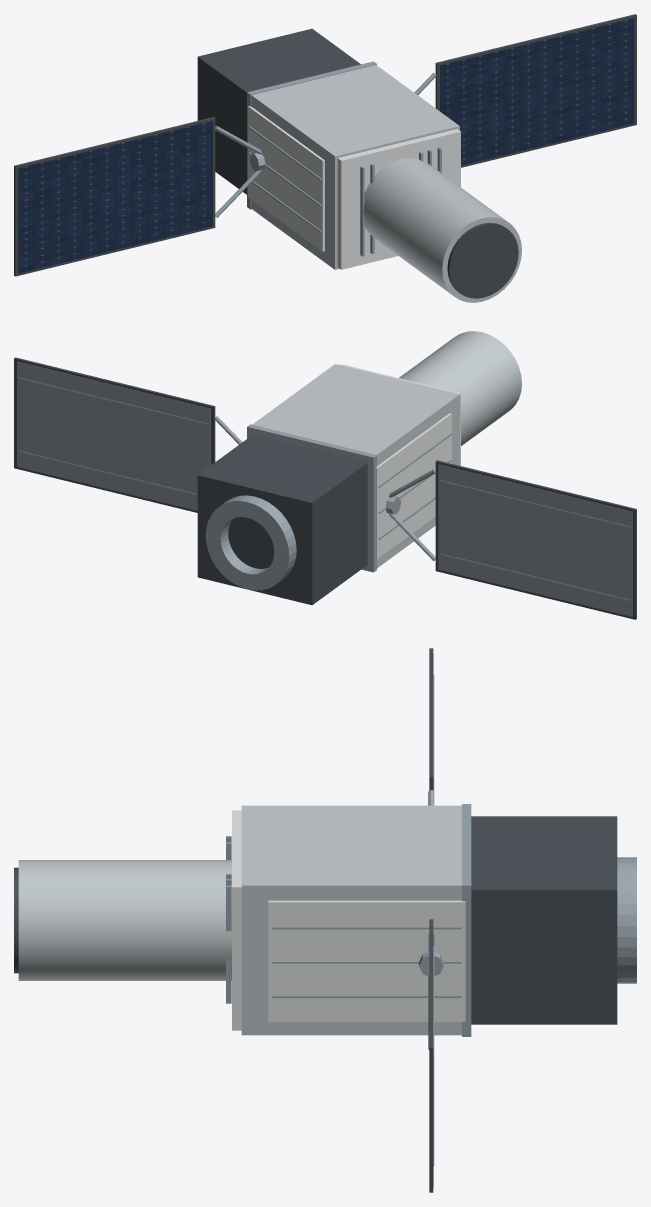
Rendered from ref-aquila-m8-52940.glb.
3 renders of one model, top to bottom at view 1: azimuth 30°, elevation 25°; view 2: azimuth 150°, elevation 25°; view 3: azimuth 270°, elevation 25°, orthographic. The views are drawn at different scales.
Visible parts, largest first — view 1: Solar cell panel (×2), Payload module, Optical instrument housing, Service module, Radiator face, Earth-facing deck, Solar panel frame (×2), Telescope aperture, Module interface, Deck heat pipe; view 2: Rear array substrate (×2), Service module, Payload module, Optical instrument housing, Radiator face, Launch adapter ring, Solar panel frame (×2), Module interface, Rear stiffener (×3); view 3: Service module, Payload module, Optical instrument housing, Radiator face, Launch adapter ring, Earth-facing deck, Module interface, Solar panel frame.
Part boxes in pixels (x1,y1,x2,y2): Solar cell panel (×2): (18,18,634,273); Payload module: (251,65,459,269); Optical instrument housing: (363,158,521,302); Service module: (197,28,360,194); Radiator face: (248,106,324,251); Earth-facing deck: (337,129,460,269); Solar panel frame (×2): (14,14,636,276); Telescope aperture: (447,222,518,298); Module interface: (247,61,376,209); Deck heat pipe: (360,166,364,256); Rear array substrate (×2): (17,361,632,616); Service module: (197,434,367,605); Payload module: (252,364,459,568); Optical instrument housing: (399,331,521,445); Radiator face: (375,413,451,558); Launch adapter ring: (205,495,296,590); Solar panel frame (×2): (14,357,636,619); Module interface: (247,424,376,572); Rear stiffener (×3): (18,377,630,601); Service module: (471,816,617,1024); Payload module: (241,805,461,1035); Optical instrument housing: (18,860,231,980); Radiator face: (268,900,465,1021); Launch adapter ring: (617,857,636,983); Earth-facing deck: (232,810,241,1030); Module interface: (462,804,471,1036); Solar panel frame: (429,919,433,1192).
Size of the model in its own units: 9.97 by 1.76 by 6.57.
6 materials, 1 textured.
